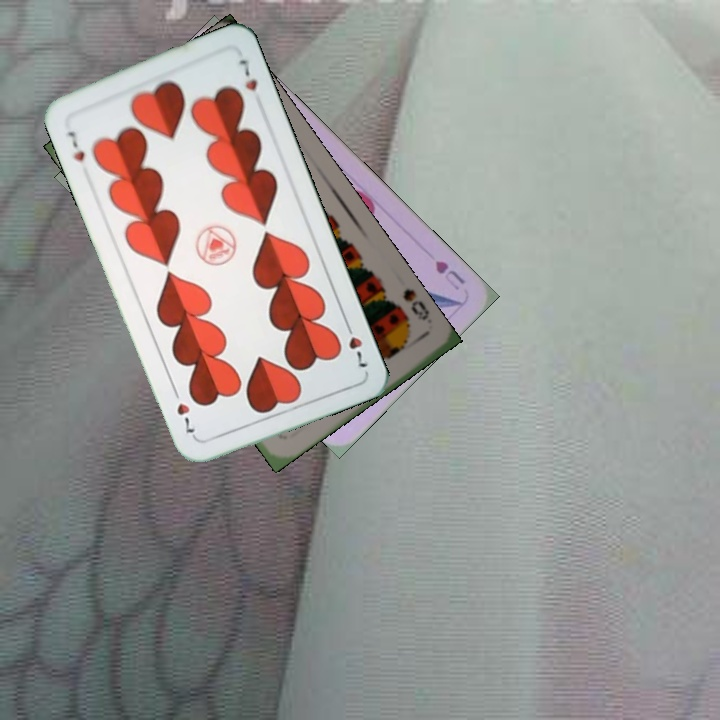H7: (340, 317, 371, 370), (63, 126, 87, 164)
HU: (431, 256, 467, 294)
S8: (399, 284, 432, 324)
